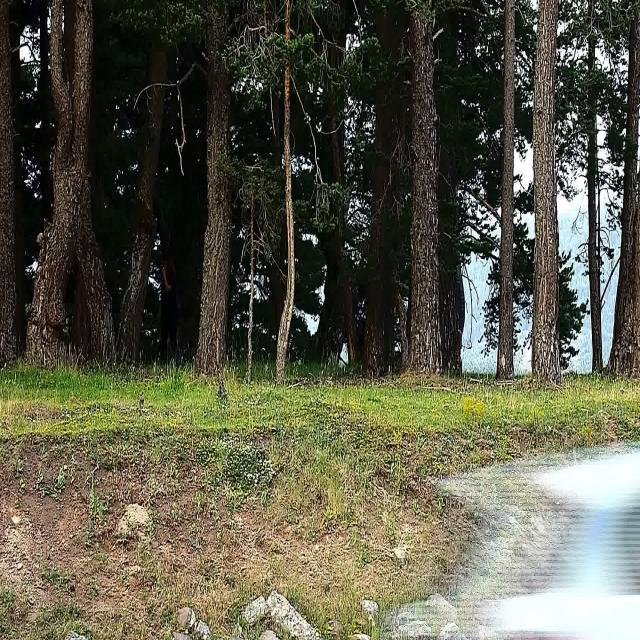Car: (489, 448, 639, 640)
